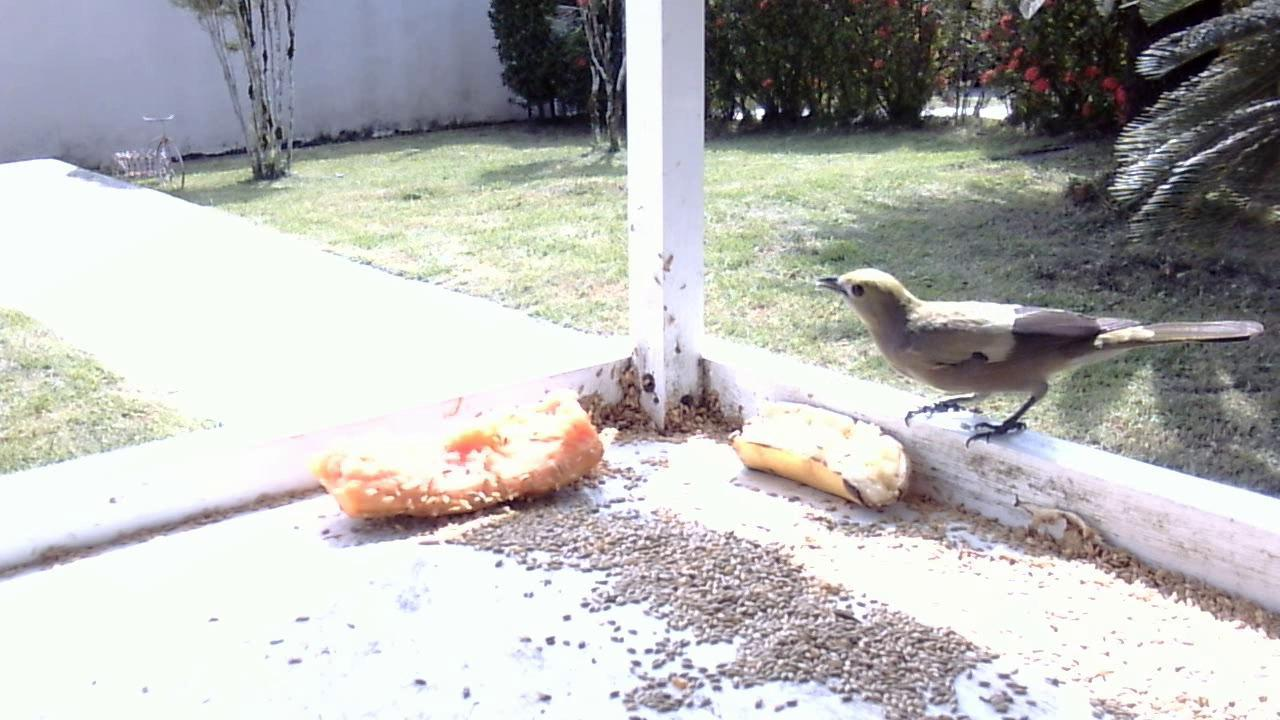sanhaco_do_coqueiro: (805, 259, 1257, 456)
